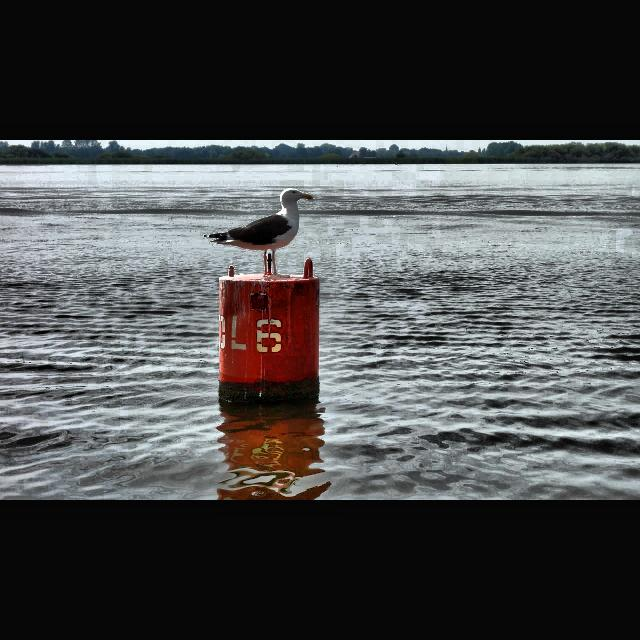buoy: (215, 258, 322, 410)
